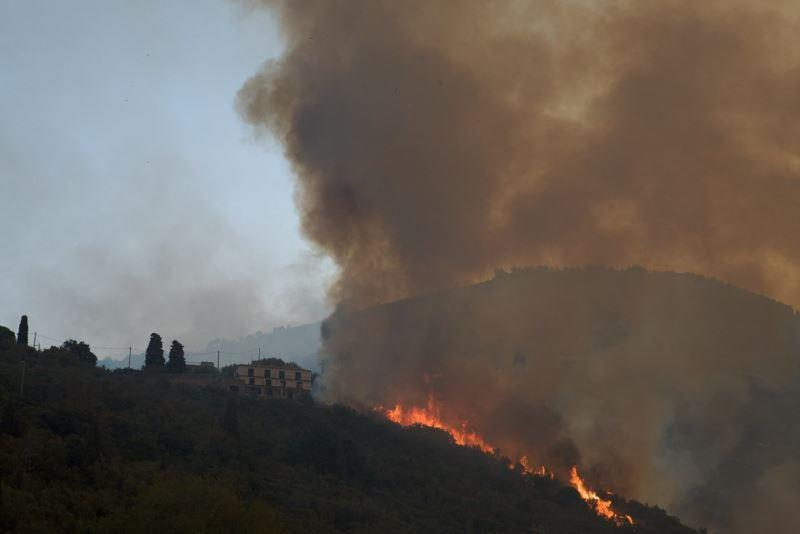fire: (571, 470, 619, 519), (381, 404, 441, 429)
smoke: (341, 39, 711, 349)
